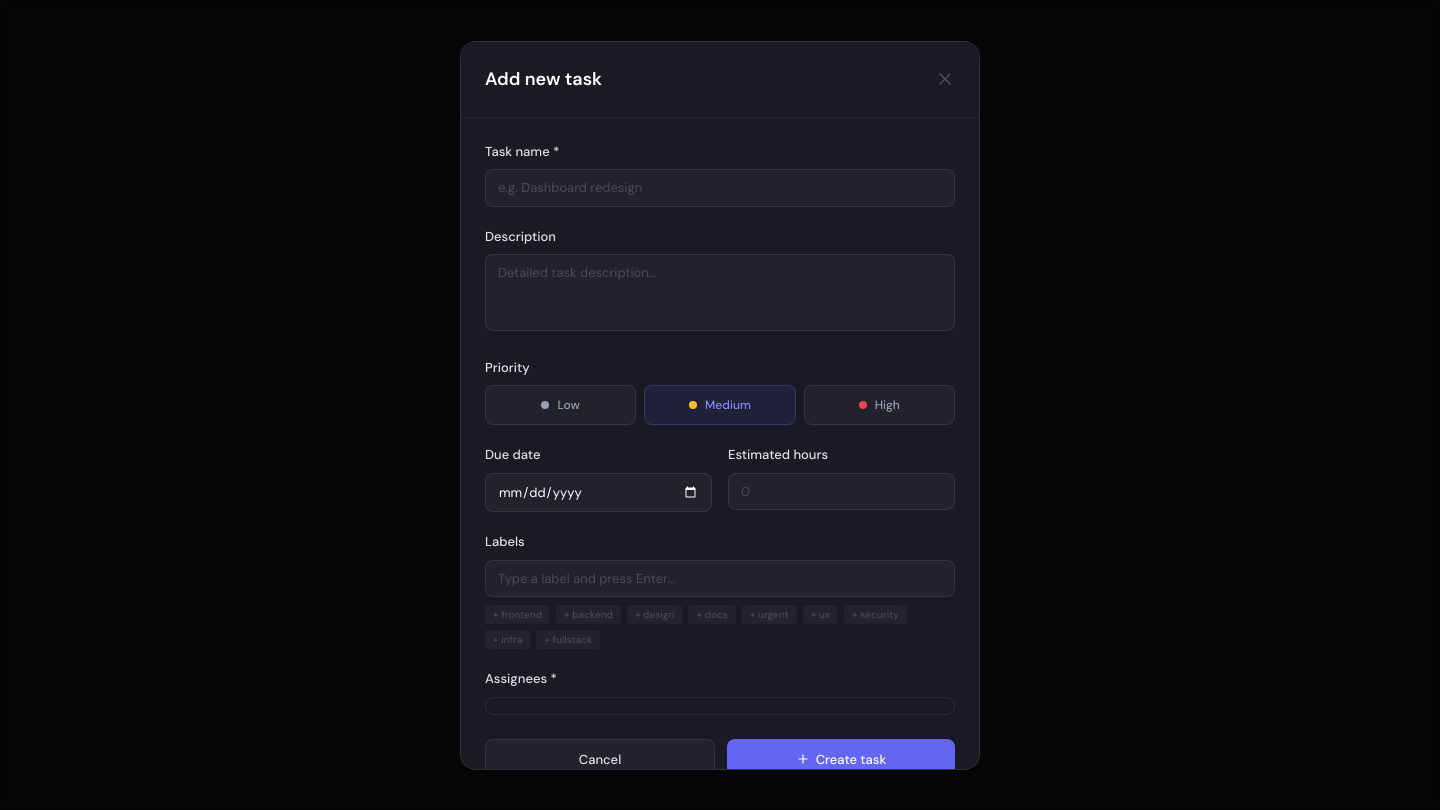
Test: NewTaskModal › shows validation error when submitting without title
This screenshot has width=1440, height=810.
What coordinates should you click on to do the following:
click the button "Create task"
I would click on:
 (841, 759)
Its box is [727,738,955,780].
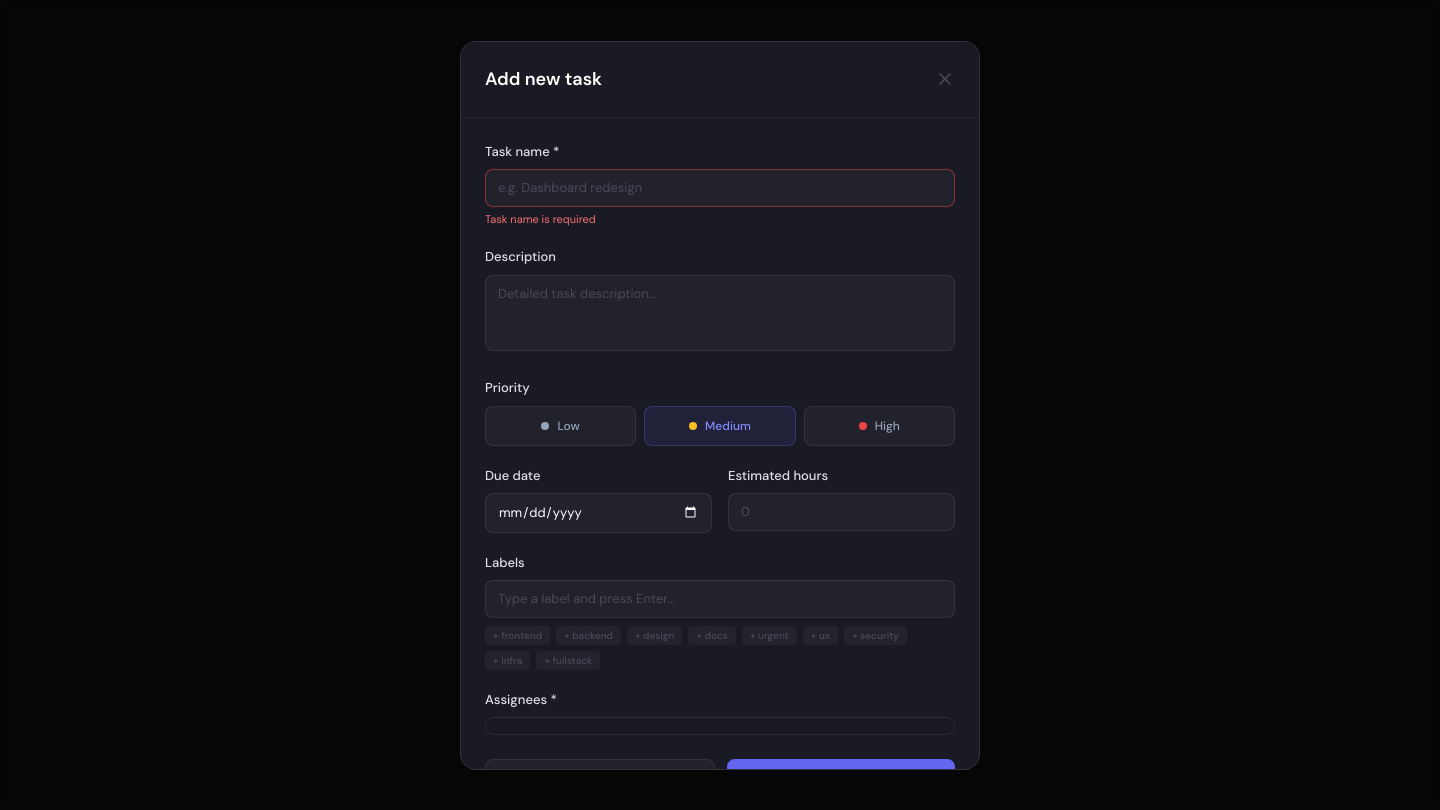
Expected: the text "Task name is required" is shown, [485,212,596,226]
